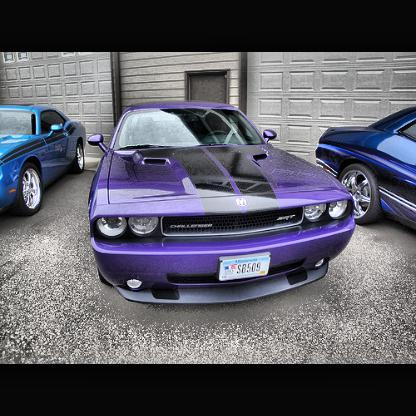Dodge Challenger SRT8 2011: (89, 103, 359, 305)
